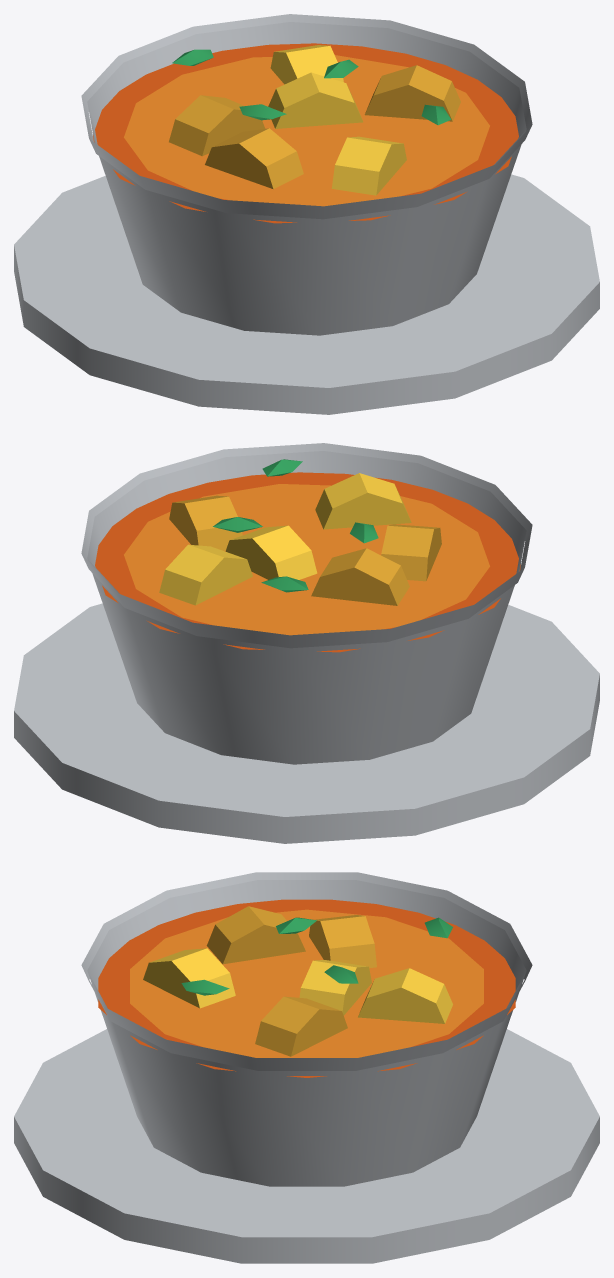
Rendered from pass_gatte.glb.
3 renders of one model, top to bottom at view 1: azimuth 30°, elevation 25°; view 2: azimuth 150°, elevation 25°; view 3: azimuth 270°, elevation 25°, orthographic.
Parts seen in each view (by area): view 1: pass_gatte; view 2: pass_gatte; view 3: pass_gatte.
Boxes of the visible parts, x1=… form: pass_gatte: x1=14, y1=14, x2=599, y2=414; pass_gatte: x1=14, y1=443, x2=599, y2=843; pass_gatte: x1=14, y1=872, x2=599, y2=1263.
Bounding box in the file's own units: 0.195 × 0.0755 × 0.2.
Materials: 1 (1 with a texture image).
